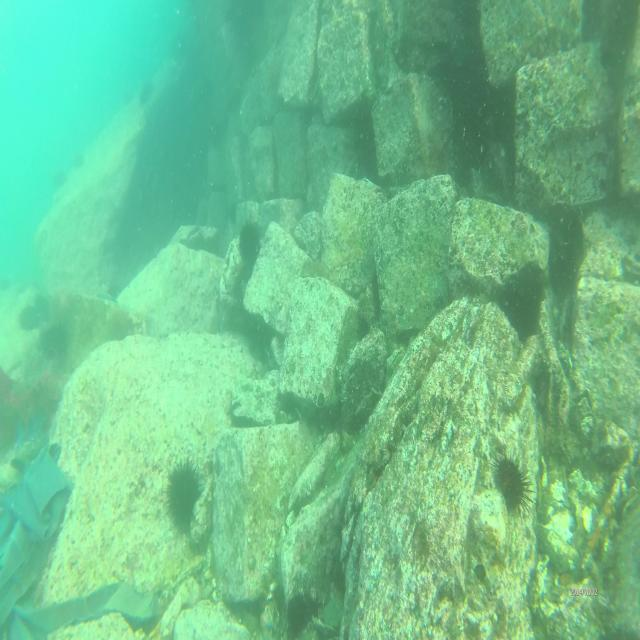echinus: (489, 443, 532, 523), (164, 461, 205, 535), (237, 218, 265, 272), (30, 288, 48, 324), (17, 304, 36, 336)
